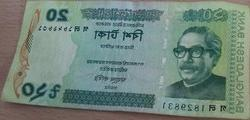20 taka: (16, 1, 248, 116)
